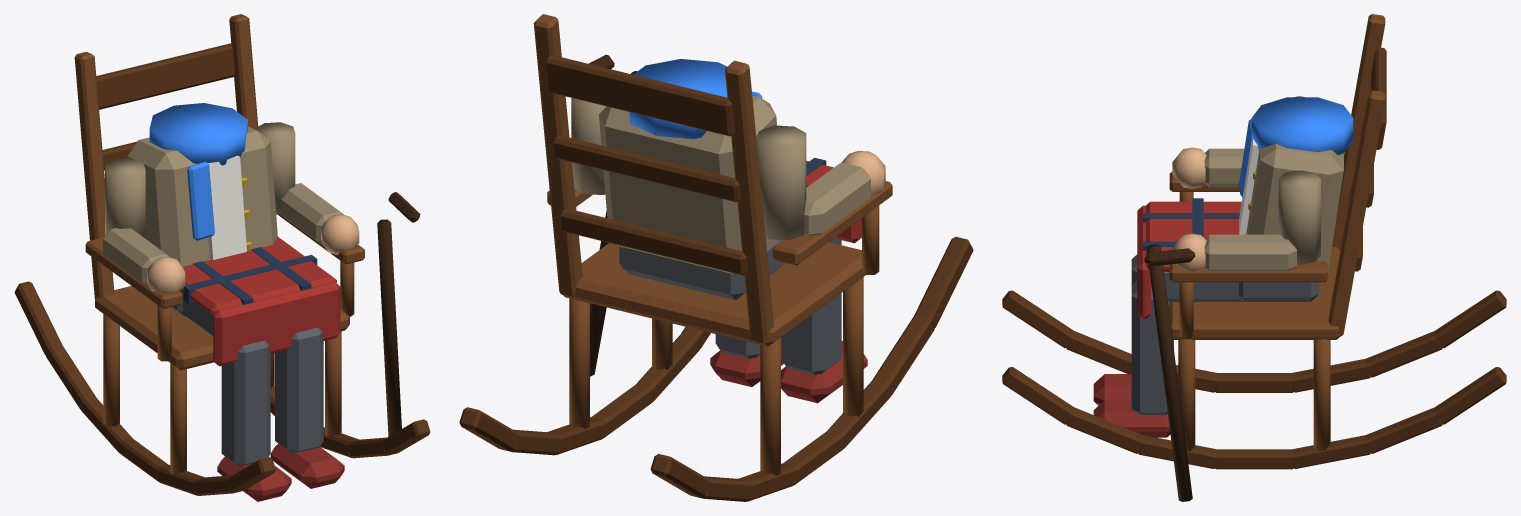
Rendered from niels.glb.
3 views of the same model, side by side, from view 1: azimuth 30°, elevation 25°; view 2: azimuth 150°, elevation 25°; view 3: azimuth 270°, elevation 25° (orthographic). The views are drawn at different scales.
Parts seen in each view (by area): view 1: torso, plaid_fold, shin_L, shin_R, plaid, slat_2, scarf, seat, back_post_L, shirt, cane, upperarm_L (+30 smaller); view 2: seat, torso, slat_2, back_post_L, back_post_R, upperarm_L, slat_0, slat_1, hips, shin_L, scarf, forearm_L (+24 smaller); view 3: seat, torso, scarf, back_post_R, cane, upperarm_R, shin_R, forearm_R, back_post_L, plaid, arm_rest_R, post_R1 (+26 smaller).
Boxes of the visible parts, box(x1,y1,x2,y2) form: torso: box(127, 126, 277, 266); plaid_fold: box(213, 281, 340, 366); shin_L: box(221, 340, 270, 466); shin_R: box(275, 327, 323, 453); plaid: box(181, 237, 336, 315); slat_2: box(96, 43, 234, 109); scarf: box(149, 103, 247, 165); seat: box(95, 286, 349, 370); back_post_L: box(74, 51, 114, 299); shirt: box(208, 155, 246, 259); cane: box(377, 219, 401, 436); upperarm_L: box(105, 159, 145, 238); seat: box(563, 242, 865, 346); torso: box(598, 95, 777, 275); slat_2: box(545, 55, 734, 136); back_post_L: box(725, 60, 774, 344); back_post_R: box(533, 14, 582, 297); upperarm_L: box(756, 125, 806, 240); slat_0: box(559, 208, 747, 275); slat_1: box(552, 135, 740, 202); hips: box(619, 240, 785, 300); shin_L: box(781, 237, 841, 374); scarf: box(629, 59, 727, 139); forearm_L: box(804, 162, 870, 235); seat: box(1168, 247, 1340, 339); torso: box(1246, 143, 1343, 271); scarf: box(1251, 97, 1353, 154); back_post_R: box(1328, 90, 1385, 336); cane: box(1146, 244, 1192, 501); upperarm_R: box(1278, 170, 1320, 264); shin_R: box(1131, 281, 1173, 414); forearm_R: box(1204, 234, 1296, 270); back_post_L: box(1332, 14, 1385, 250); plaid: box(1145, 201, 1241, 271); arm_rest_R: box(1169, 261, 1327, 282); post_R1: box(1313, 339, 1330, 451).
Size of the model in its own units: 1.04 by 1.47 by 1.79.
